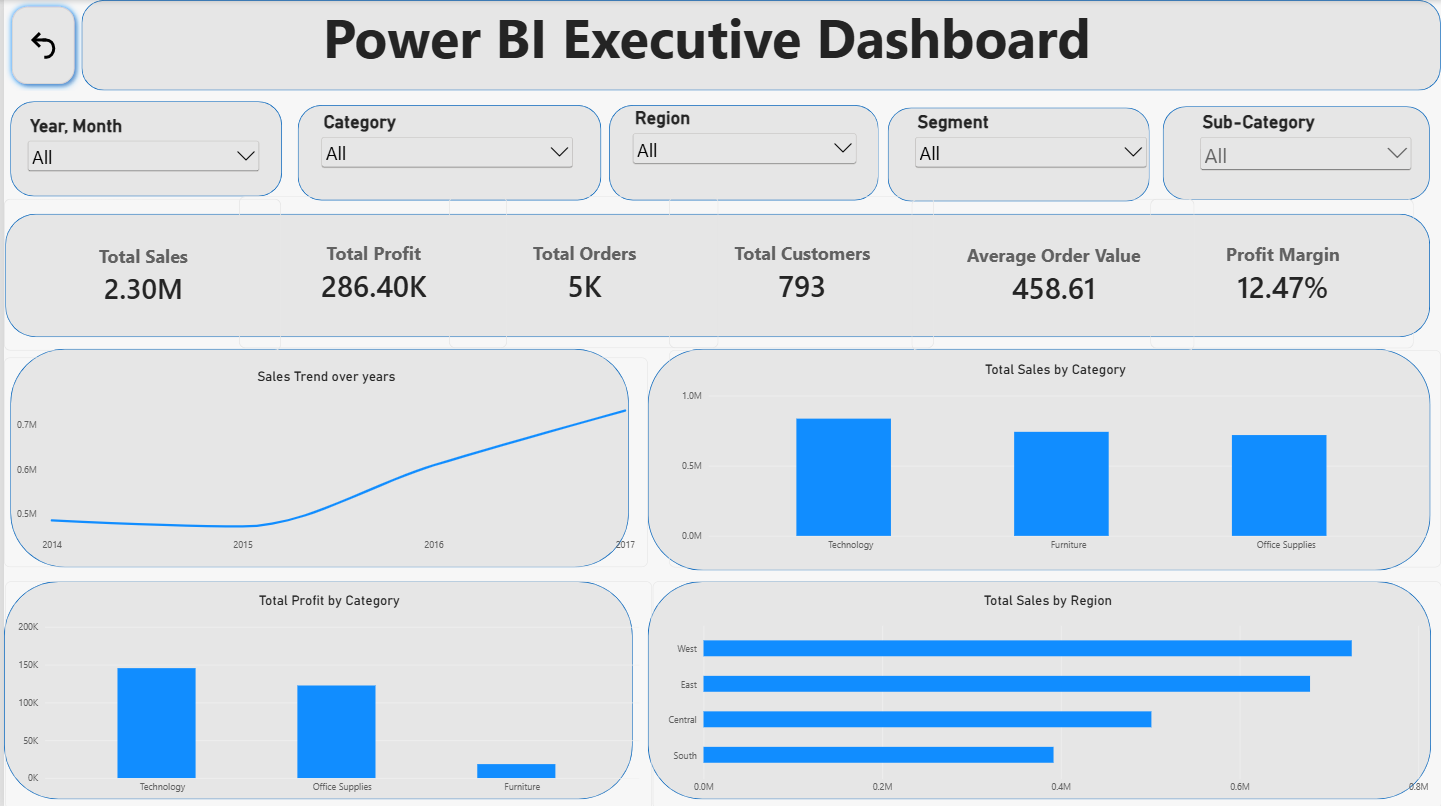

The dashboard page shown, as its layout file describes it:
{"tool":"powerbi","page":{"name":"Executive Dashboard","canvas":[1920,1080],"ordinal":0},"visuals":[{"type":"shape","box":[1548.5,141.9,356.9,125.2],"z":1000},{"type":"shape","box":[104.3,0,1815.7,121],"z":2000},{"type":"shape","box":[2.1,285.9,1903.3,164.9],"z":3000},{"type":"shape","box":[859.7,776.5,1046.3,291.5],"z":4000},{"type":"shape","box":[0,776.5,839.8,291.5],"z":5000},{"type":"shape","box":[859.8,465.4,1045.6,296.3],"z":6000},{"type":"shape","box":[8.3,465.4,826.4,292.2],"z":7000},{"type":"shape","box":[8.3,135.7,363.1,127.3],"z":8000},{"type":"shape","box":[392.3,139.8,405.5,127.6],"z":9000},{"type":"shape","box":[807.7,139.8,360.2,127.6],"z":10000},{"type":"shape","box":[1181.2,144,349.9,125.6],"z":11000},{"type":"cardVisual","fields":{"Data":["Cleaned Data.Total Sales"]},"box":[0,266,370.5,203.8],"z":12000},{"type":"cardVisual","fields":{"Data":["Cleaned Data.Total Orders"]},"box":[594,262,360.2,203.8],"z":13000},{"type":"lineChart","title":"Sales Trend over years","fields":{"Category":["Cleaned Data.Order Date.Variation.Date Hierarchy.Year","Cleaned Data.Order Date.Variation.Date Hierarchy.Month"],"Y":["Cleaned Data.Total Sales"]},"box":[0,477.9,859.8,279.7],"z":14000},{"type":"cardVisual","fields":{"Data":["Cleaned Data.Total Customers"]},"box":[888,262,354,203.8],"z":15000},{"type":"clusteredColumnChart","fields":{"Category":["Cleaned Data.Category"],"Y":["Cleaned Data.Total Sales"]},"box":[889,467.5,1031,290.1],"z":16000},{"type":"cardVisual","fields":{"Data":["Cleaned Data.Total Profit"]},"box":[314,262,358.1,203.8],"z":17000},{"type":"clusteredColumnChart","fields":{"Category":["Cleaned Data.Category"],"Y":["Cleaned Data.Total Profit"]},"box":[2.1,776.3,864,304.7],"z":18000},{"type":"cardVisual","fields":{"Data":["Cleaned Data.Profit Margin"]},"box":[1531.8,265,352,200],"z":19000},{"type":"clusteredBarChart","fields":{"Category":["Cleaned Data.Region"],"Y":["Cleaned Data.Total Sales"]},"box":[866.1,776.3,1053.9,304.7],"z":20000},{"type":"cardVisual","fields":{"Data":["Cleaned Data.Average Order Value"]},"box":[1212,266,378.7,203.8],"z":21000},{"type":"slicer","fields":{"Values":["Cleaned Data.Order Date.Variation.Date Hierarchy.Year","Cleaned Data.Order Date.Variation.Date Hierarchy.Month"]},"box":[27.1,154.4,319.3,96],"z":22000},{"type":"slicer","fields":{"Values":["Cleaned Data.Category"]},"box":[419.5,148.2,345.8,86.4],"z":23000},{"type":"slicer","fields":{"Values":["Cleaned Data.Region"]},"box":[835.7,144.1,308.7,86.4],"z":24000},{"type":"slicer","fields":{"Values":["Cleaned Data.Segment"]},"box":[1212.4,148.2,319,82.3],"z":25000},{"type":"actionButton","box":[1.8,0,101.3,121.2],"z":26000},{"type":"textbox","box":[346,0,1186,104],"z":27000},{"type":"slicer","fields":{"Values":["Cleaned Data.Sub-Category"]},"box":[1592.3,148.2,292.2,102.3],"z":28000}]}

Visuals, with their boxes in screenshot pixels (x1, y1, x2, y2), scaled from the page's 1920x1080 canvas onto the 1441x806 screenshot:
shape: region(1162, 106, 1430, 199)
shape: region(78, 0, 1440, 90)
shape: region(2, 213, 1430, 336)
shape: region(645, 579, 1430, 797)
shape: region(0, 579, 630, 797)
shape: region(645, 347, 1430, 568)
shape: region(6, 347, 626, 565)
shape: region(6, 101, 279, 196)
shape: region(294, 104, 599, 200)
shape: region(606, 104, 877, 200)
shape: region(887, 107, 1149, 201)
cardVisual - Cleaned Data.Total Sales: region(0, 199, 278, 351)
cardVisual - Cleaned Data.Total Orders: region(446, 196, 716, 348)
"Sales Trend over years" lineChart: region(0, 357, 645, 565)
cardVisual - Cleaned Data.Total Customers: region(666, 196, 932, 348)
clusteredColumnChart - Cleaned Data.Category x Cleaned Data.Total Sales: region(667, 349, 1440, 565)
cardVisual - Cleaned Data.Total Profit: region(236, 196, 504, 348)
clusteredColumnChart - Cleaned Data.Category x Cleaned Data.Total Profit: region(2, 579, 650, 805)
cardVisual - Cleaned Data.Profit Margin: region(1150, 198, 1414, 347)
clusteredBarChart - Cleaned Data.Region x Cleaned Data.Total Sales: region(650, 579, 1440, 805)
cardVisual - Cleaned Data.Average Order Value: region(910, 199, 1194, 351)
slicer - Cleaned Data.Order Date.Variation.Date Hierarchy.Year x Cleaned Data.Order Date.Variation.Date Hierarchy.Month: region(20, 115, 260, 187)
slicer - Cleaned Data.Category: region(315, 111, 574, 175)
slicer - Cleaned Data.Region: region(627, 108, 859, 172)
slicer - Cleaned Data.Segment: region(910, 111, 1149, 172)
actionButton: region(1, 0, 77, 90)
textbox: region(260, 0, 1150, 78)
slicer - Cleaned Data.Sub-Category: region(1195, 111, 1414, 187)
